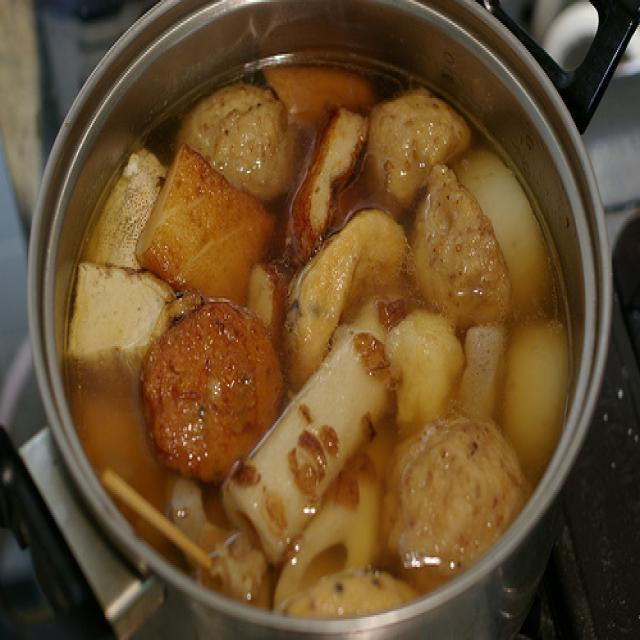汤锅炖物: (64, 56, 577, 626)
